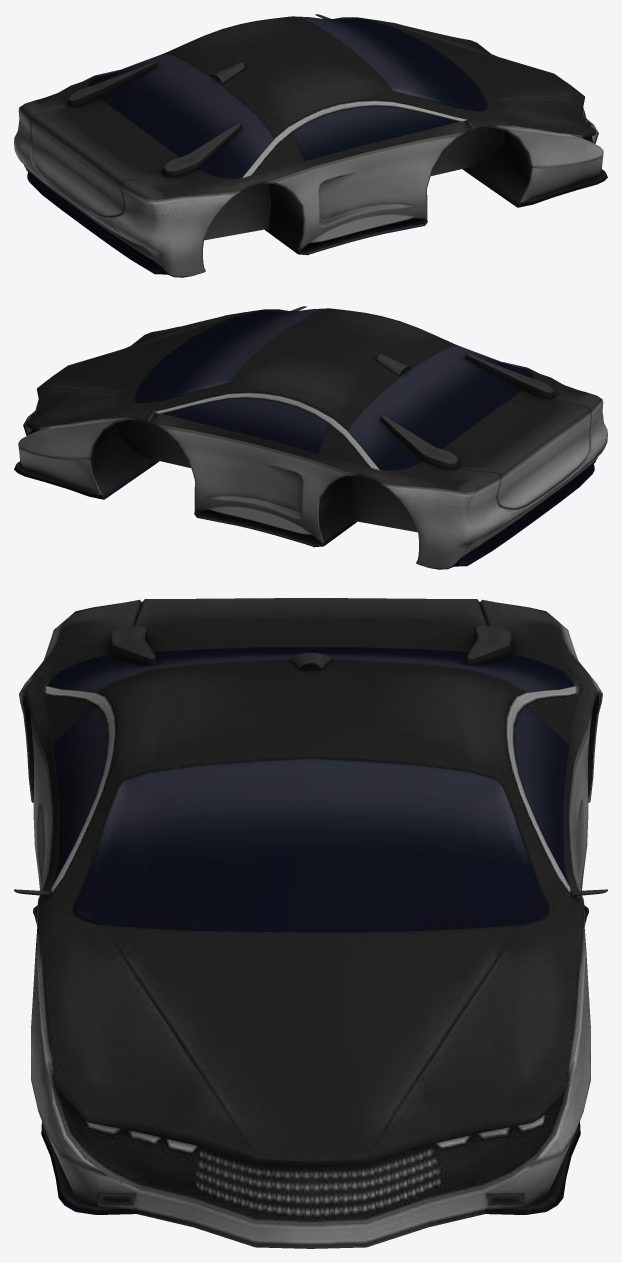
The model's file is f1_car_mercedes_04.dae.
The picture shows the model from 3 angles, top to bottom: view 1: azimuth 30°, elevation 25°; view 2: azimuth 150°, elevation 25°; view 3: azimuth 270°, elevation 25°; orthographic projection. The views are drawn at different scales.
Parts seen in each view (by area): view 1: car_body; view 2: car_body; view 3: car_body.
Part boxes in pixels (x1,y1,x2,y2): car_body: (14, 14, 607, 277); car_body: (14, 306, 607, 569); car_body: (14, 598, 607, 1248).
Size of the model in its own units: 0.3658 by 0.1927 by 0.0974.
Materials: 1 (1 with a texture image).
